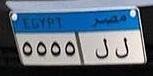5: (34, 40, 47, 59), (21, 39, 33, 59), (64, 41, 76, 60), (49, 41, 62, 58)
laam: (114, 34, 129, 60), (94, 37, 109, 61)
